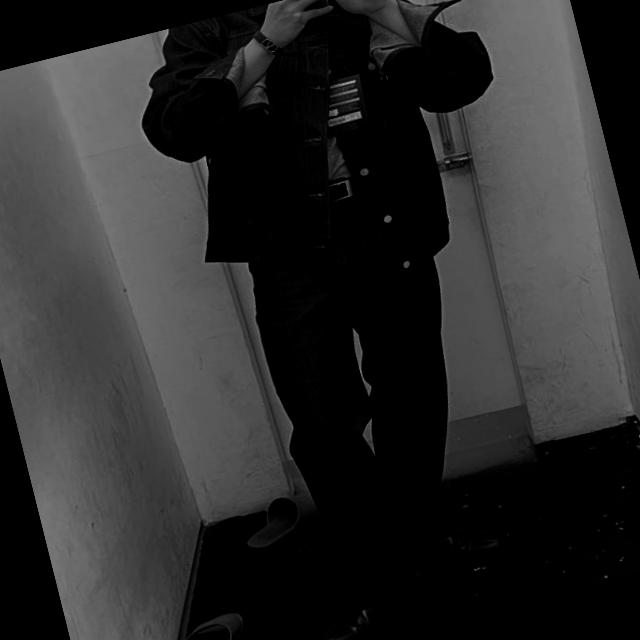denimpants: (228, 162, 512, 609)
jacket: (122, 0, 534, 322)
